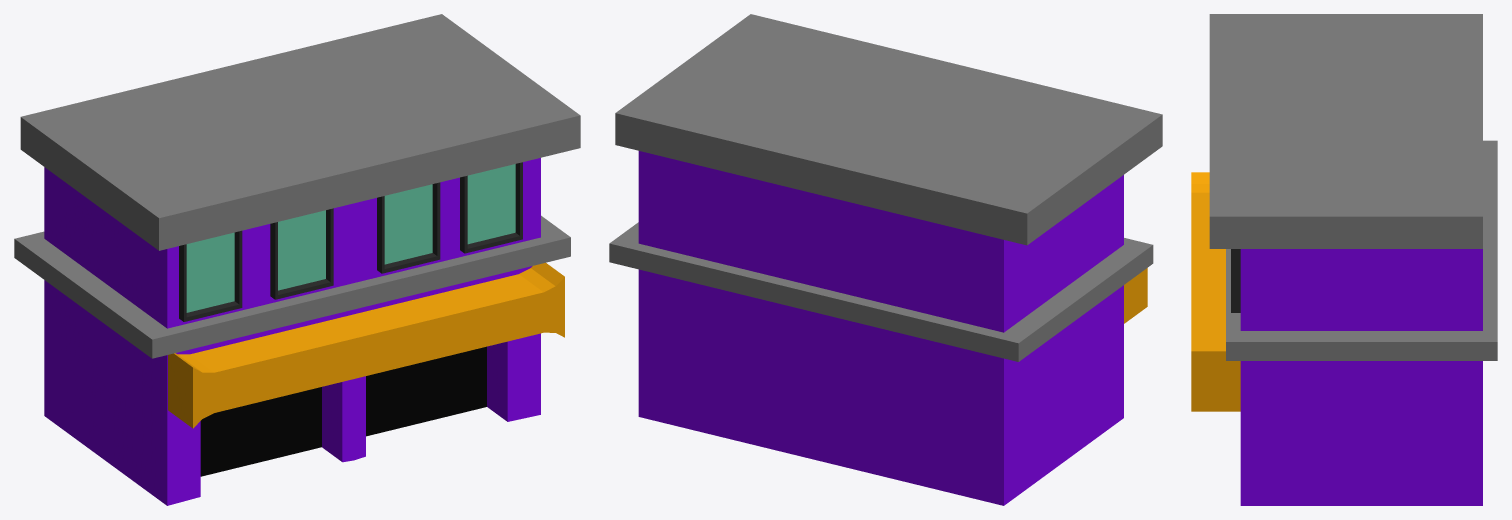
File: PredioGenericoEscalavelRoxo.fbx
3 views of the same model, side by side, from view 1: azimuth 30°, elevation 25°; view 2: azimuth 150°, elevation 25°; view 3: azimuth 270°, elevation 25° (orthographic). The views are drawn at different scales.
Visible parts, largest first — view 1: LojaGenericaEscalavel; view 2: LojaGenericaEscalavel; view 3: LojaGenericaEscalavel.
Boxes of the visible parts, box(x1,y1,x2,y2) form: LojaGenericaEscalavel: box(14, 14, 580, 505); LojaGenericaEscalavel: box(609, 14, 1162, 505); LojaGenericaEscalavel: box(1191, 14, 1497, 505).
Size of the model in its own units: 1095 by 757 by 699.
Materials: 1 (1 with a texture image).
